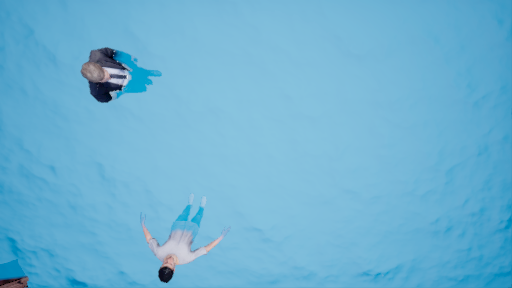person: (77, 48, 171, 121), (142, 197, 226, 276)
